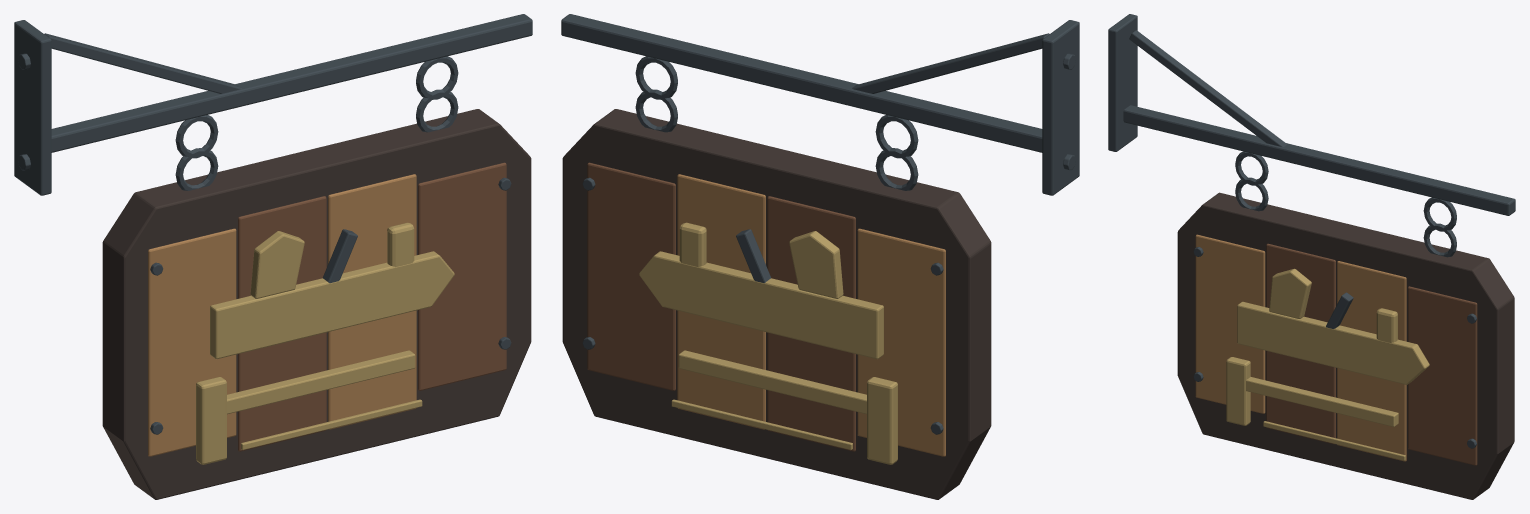
Rendered from carpentry_trade_sign.glb.
The picture shows the model from 3 angles, left to right: view 1: azimuth 30°, elevation 25°; view 2: azimuth 150°, elevation 25°; view 3: azimuth 330°, elevation 25°; orthographic projection. The views are drawn at different scales.
Visible parts, largest first — view 1: Carved dark timber rim.002, Recessed sign board.011, Recessed sign board.008, Hand plane emblem, Recessed sign board.010, Forged hanging arm.002, Recessed sign board.009, Wall bracket plate.002, Try square long arm, Plane tote, Bracket diagonal.002, Try square stock (+7 smaller); view 2: Carved dark timber rim.002, Recessed sign board.011, Recessed sign board.008, Hand plane emblem.001, Recessed sign board.010, Forged hanging arm.002, Recessed sign board.009, Wall bracket plate.002, Try square long arm.001, Plane tote.001, Bracket diagonal.002, Try square stock.001 (+7 smaller); view 3: Carved dark timber rim.002, Recessed sign board.011, Recessed sign board.008, Recessed sign board.010, Hand plane emblem, Forged hanging arm.002, Recessed sign board.009, Wall bracket plate.002, Try square long arm, Bracket diagonal.002, Plane tote, Try square stock (+7 smaller).
Part boxes in pixels (x1,y1,x2,y2): Carved dark timber rim.002: (102,109,531,499); Recessed sign board.011: (418,162,506,390); Recessed sign board.008: (148,228,236,456); Hand plane emblem: (210,251,454,358); Recessed sign board.010: (328,174,416,429); Forged hanging arm.002: (51,14,532,152); Recessed sign board.009: (238,196,326,451); Wall bracket plate.002: (14,20,51,195); Try square long arm: (227,350,415,414); Plane tote: (250,231,304,298); Bracket diagonal.002: (44,33,241,93); Try square stock: (196,377,226,464); Carved dark timber rim.002: (562,109,991,499); Recessed sign board.011: (587,162,675,390); Recessed sign board.008: (857,228,945,456); Hand plane emblem.001: (639,251,883,358); Recessed sign board.010: (677,174,765,429); Forged hanging arm.002: (561,14,1042,152); Recessed sign board.009: (767,196,855,451); Wall bracket plate.002: (1042,20,1079,195); Try square long arm.001: (678,350,866,414); Plane tote.001: (789,231,843,298); Bracket diagonal.002: (852,33,1049,93); Try square stock.001: (867,377,897,464); Carved dark timber rim.002: (1177,192,1514,499); Recessed sign board.011: (1408,286,1477,465); Recessed sign board.008: (1195,234,1265,413); Recessed sign board.010: (1337,261,1406,461); Hand plane emblem: (1237,301,1429,384); Forged hanging arm.002: (1123,105,1515,215); Recessed sign board.009: (1266,243,1335,444); Wall bracket plate.002: (1108,14,1137,151); Try square long arm: (1246,377,1398,426); Bracket diagonal.002: (1129,30,1287,146); Plane tote: (1269,268,1311,318); Try square stock: (1226,357,1250,425).
Size of the model in its own units: 1.27 by 1.17 by 0.167.
